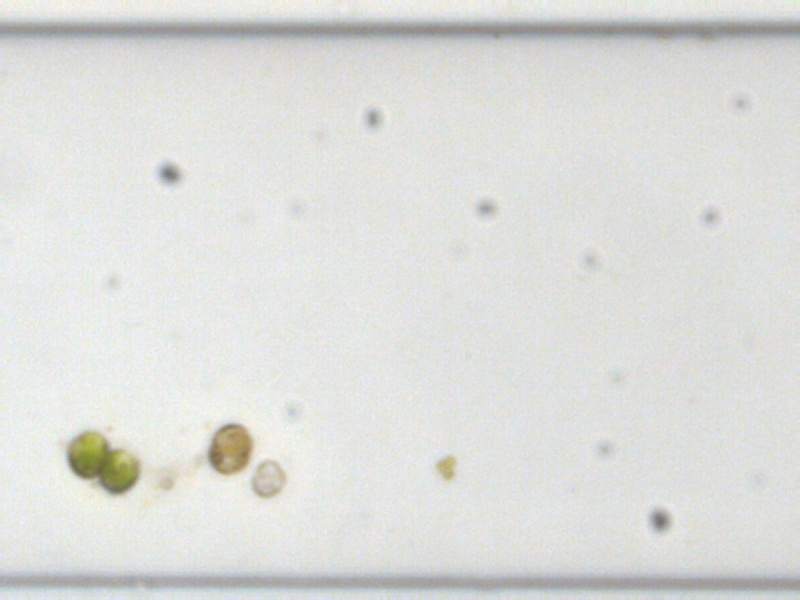Chlorella: (432, 454, 454, 480), (158, 475, 173, 490)
Effrenium: (212, 423, 250, 470), (252, 459, 283, 496)
Platymonas: (67, 429, 107, 481), (101, 449, 141, 493)
